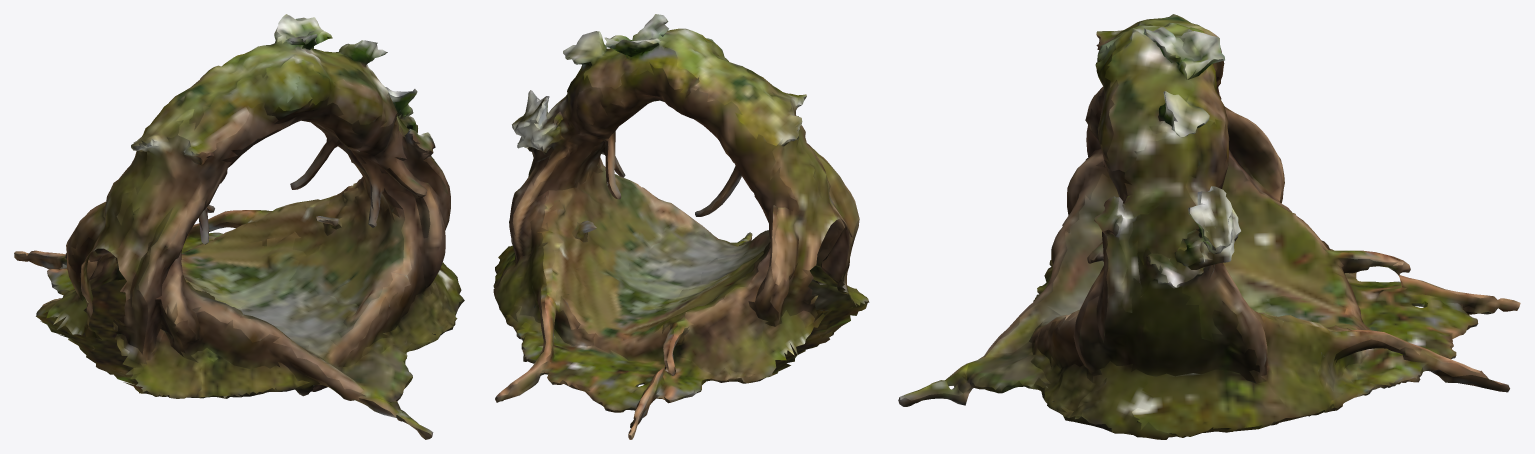
The model's file is F3D_05_RootBridge.fbx.
The picture shows the model from 3 angles, left to right: view 1: azimuth 30°, elevation 25°; view 2: azimuth 150°, elevation 25°; view 3: azimuth 270°, elevation 25°; orthographic projection. The views are drawn at different scales.
Visible parts, largest first — view 1: F3D_05_RootBridge; view 2: F3D_05_RootBridge; view 3: F3D_05_RootBridge.
Boxes of the visible parts, box(x1,y1,x2,y2) form: F3D_05_RootBridge: box(14, 14, 464, 439); F3D_05_RootBridge: box(493, 14, 869, 439); F3D_05_RootBridge: box(898, 14, 1520, 439).
Bounding box in the file's own units: 1.14 × 1 × 1.51.
Materials: 1 (1 with a texture image).
